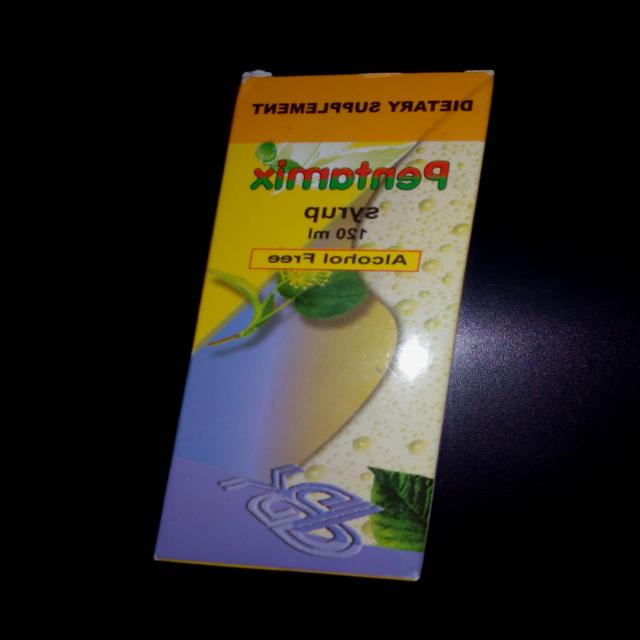medicine_packaging: (76, 28, 579, 624)
